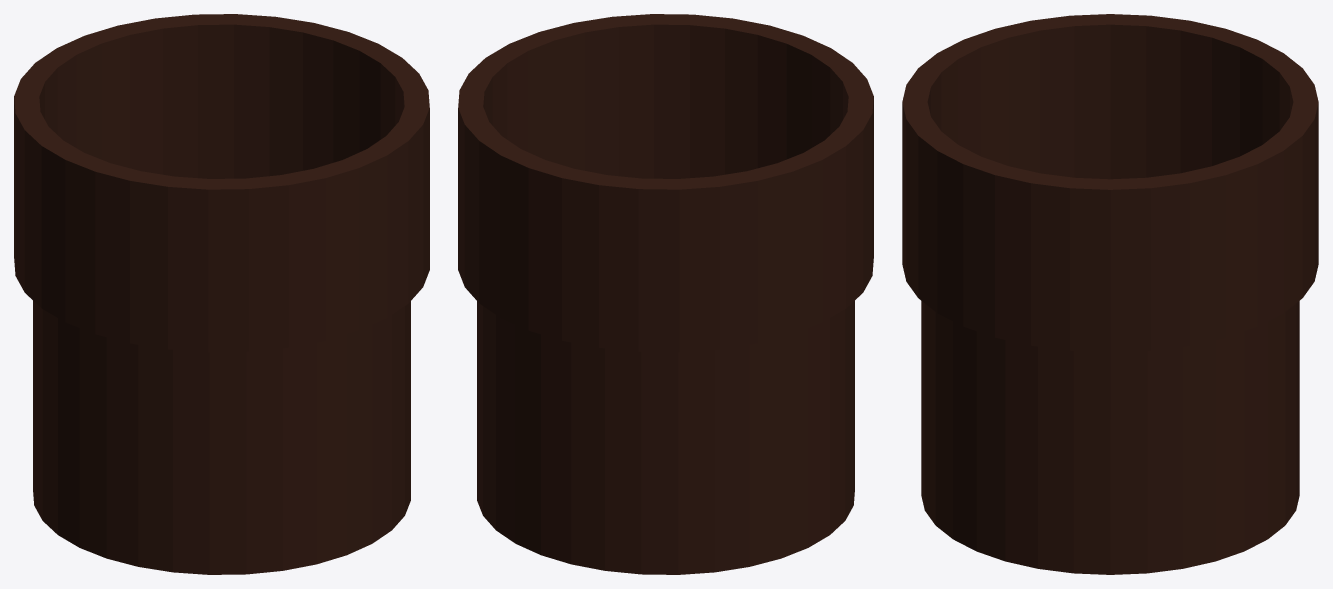
The model's file is Bucket.fbx.
3 views of the same model, side by side, from view 1: azimuth 30°, elevation 25°; view 2: azimuth 150°, elevation 25°; view 3: azimuth 270°, elevation 25° (orthographic).
Visible parts, largest first — view 1: Cylinder; view 2: Cylinder; view 3: Cylinder.
Boxes of the visible parts, left/top/right/bottom form: Cylinder: left=14, top=14, right=429, bottom=574; Cylinder: left=458, top=14, right=873, bottom=574; Cylinder: left=902, top=14, right=1318, bottom=574.
Bounding box in the file's own units: 220 × 229 × 220.
